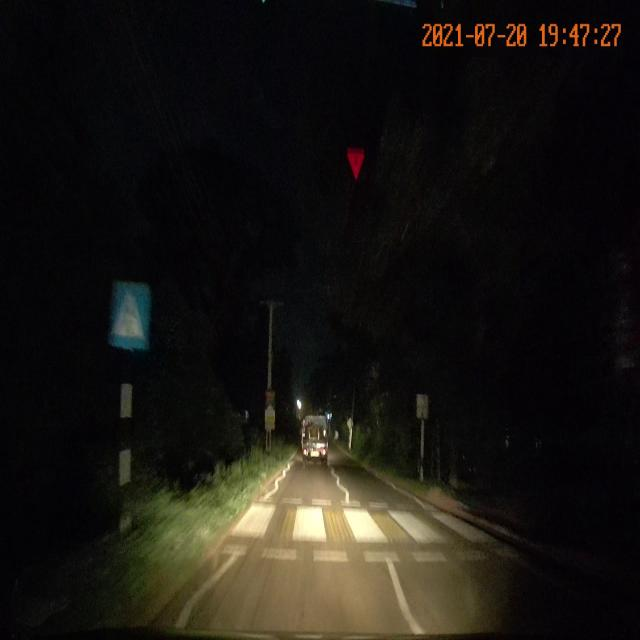Crosswalk: (213, 494, 527, 563)
